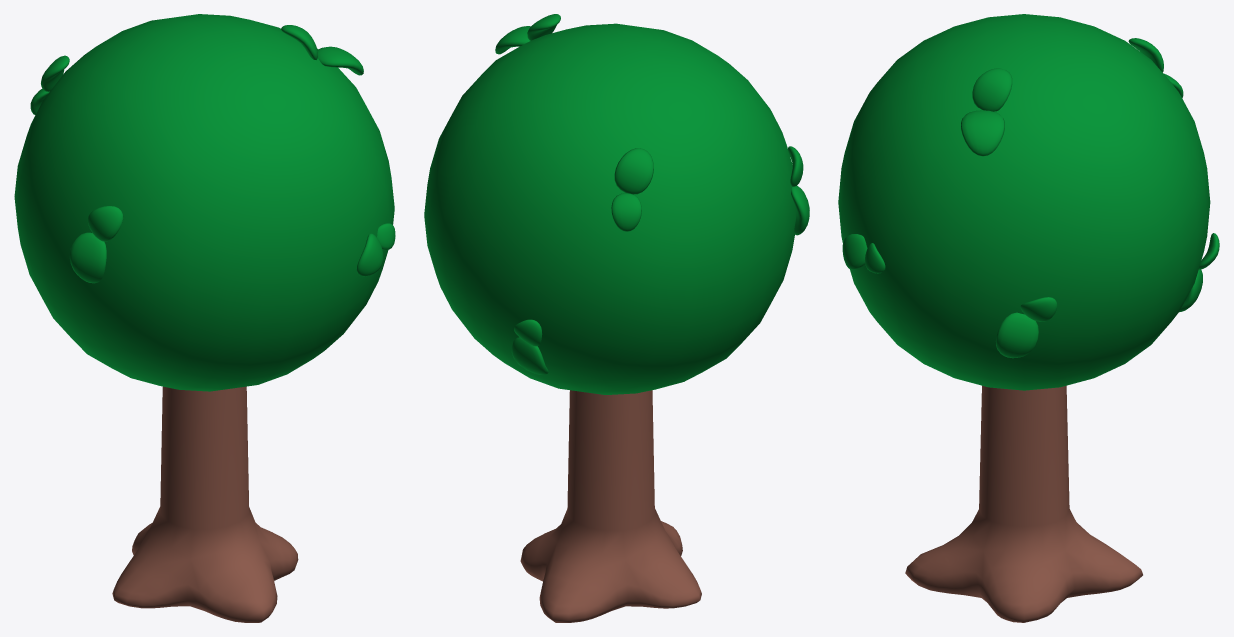
File: Farm_7_Tree_1.glb
3 renders of one model, left to right at view 1: azimuth 30°, elevation 25°; view 2: azimuth 150°, elevation 25°; view 3: azimuth 270°, elevation 25°, orthographic.
Visible parts, largest first — view 1: Farm_7_Tree_1; view 2: Farm_7_Tree_1; view 3: Farm_7_Tree_1.
Part boxes in pixels (x1,y1,x2,y2): Farm_7_Tree_1: (14,14,395,622); Farm_7_Tree_1: (424,14,809,622); Farm_7_Tree_1: (838,14,1219,622).
Size of the model in its own units: 3.39 by 5.23 by 3.29.
1 material, 1 textured.
